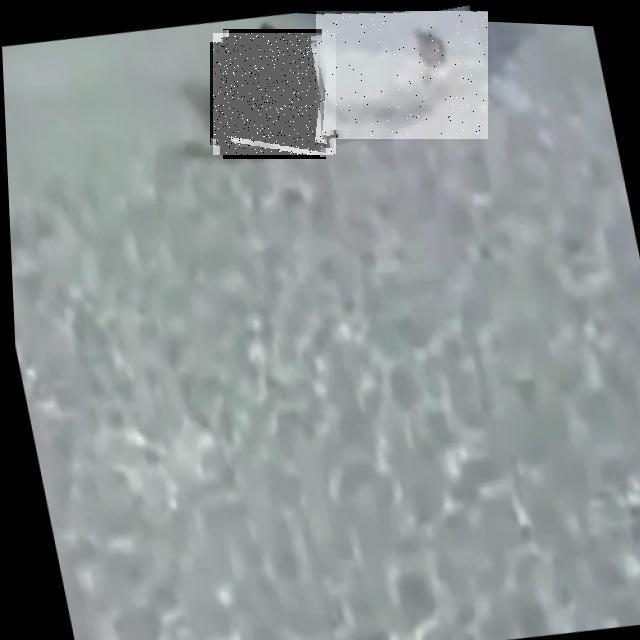swimming: (316, 11, 488, 139), (213, 33, 336, 155)
